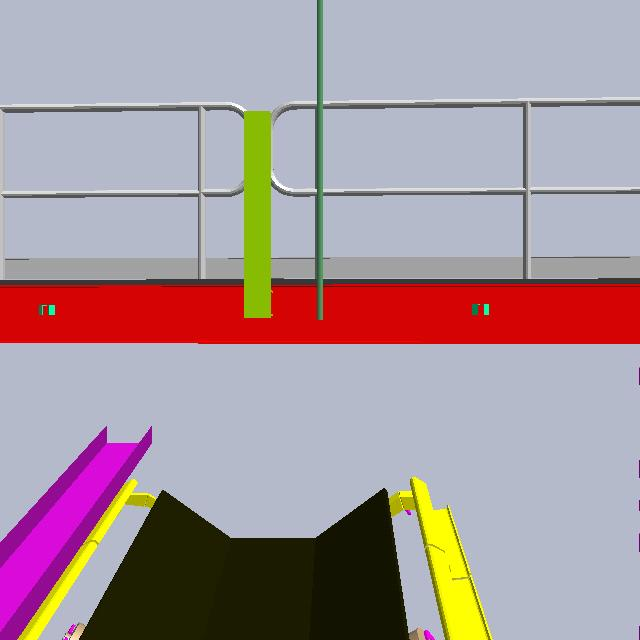Poste: (310, 1, 329, 329)
Soporte: (231, 94, 290, 352)
